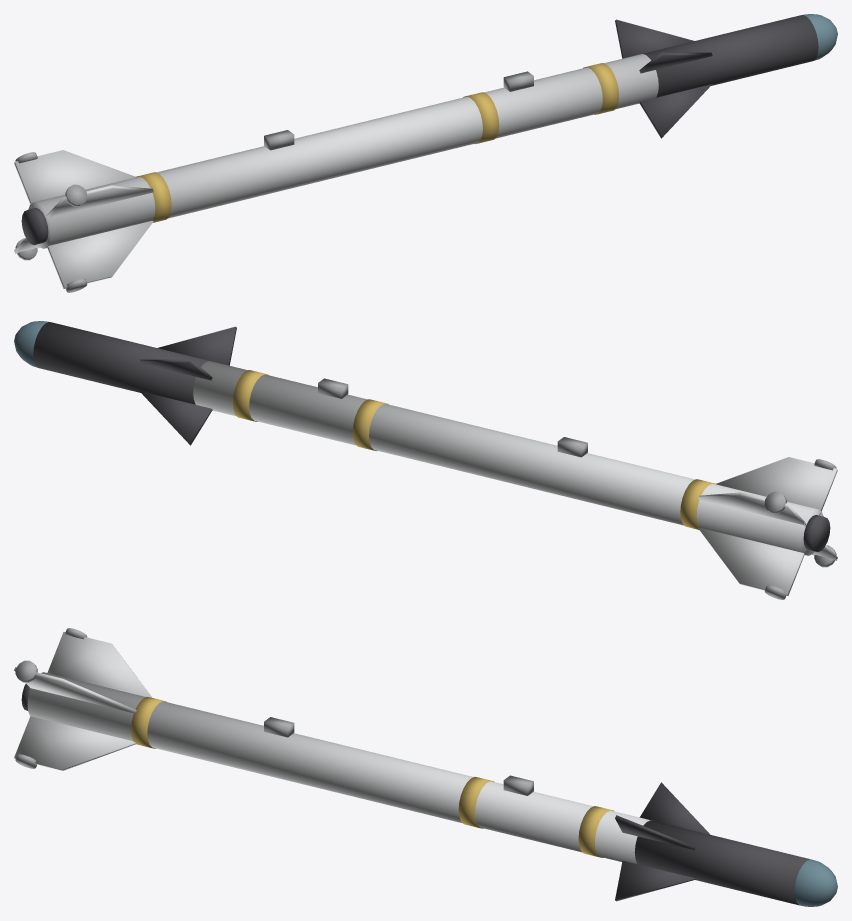
File: aam_2.glb
3 renders of one model, top to bottom at view 1: azimuth 30°, elevation 25°; view 2: azimuth 150°, elevation 25°; view 3: azimuth 330°, elevation 25°, orthographic.
Visible parts, largest first — view 1: aam_2; view 2: aam_2; view 3: aam_2.
Boxes of the visible parts, box(x1,y1,x2,y2) form: aam_2: box(14, 14, 837, 292); aam_2: box(14, 321, 837, 599); aam_2: box(14, 628, 837, 906).
Size of the model in its own units: 1.01 by 0.1287 by 0.1287.
